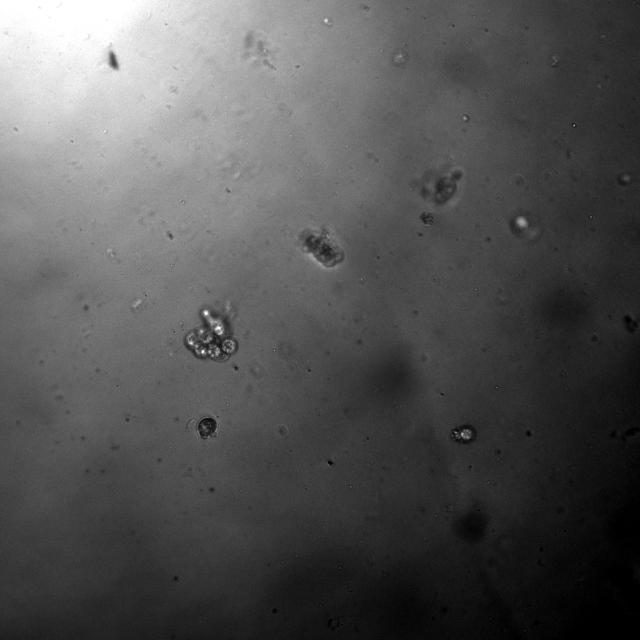organoid: (184, 307, 239, 362), (299, 228, 344, 267), (419, 168, 466, 204), (451, 424, 476, 443), (198, 416, 218, 439), (420, 212, 434, 225)
